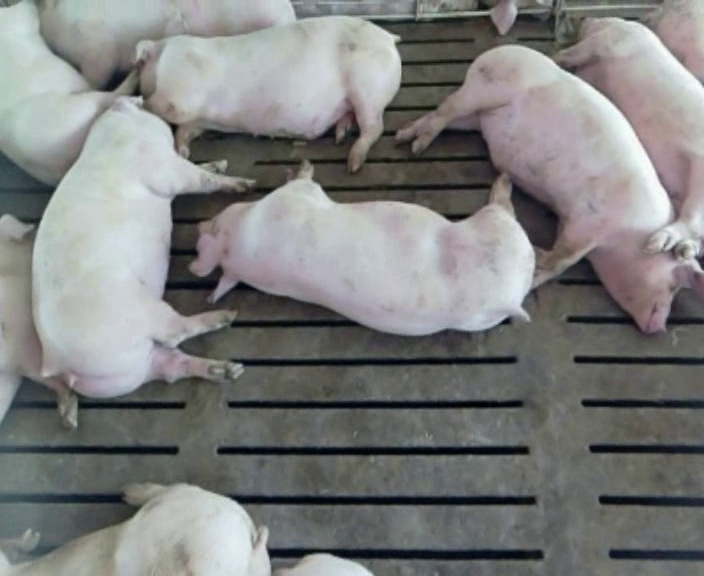pig: (398, 45, 703, 332), (32, 97, 252, 397), (190, 161, 534, 334), (128, 16, 400, 171), (555, 18, 703, 257), (0, 484, 269, 575), (38, 2, 295, 89), (646, 1, 703, 82)
